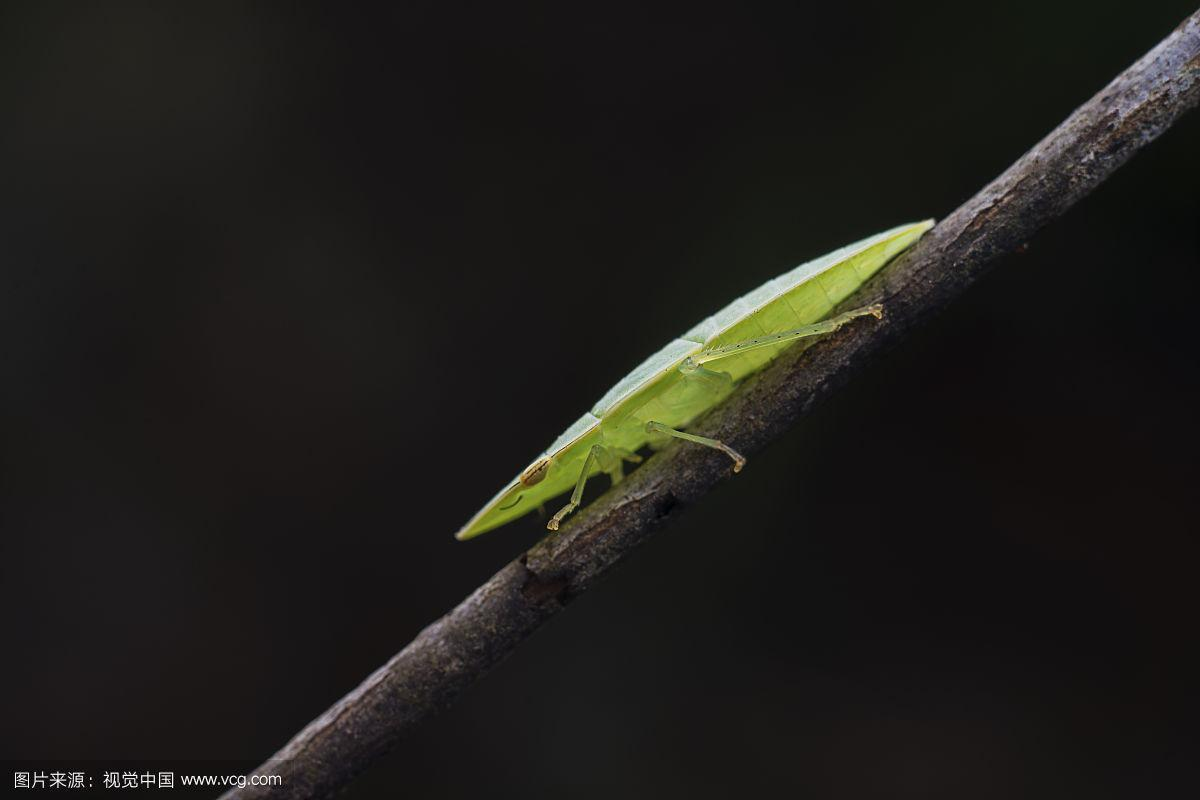Cicadellidae: (459, 222, 932, 536)
